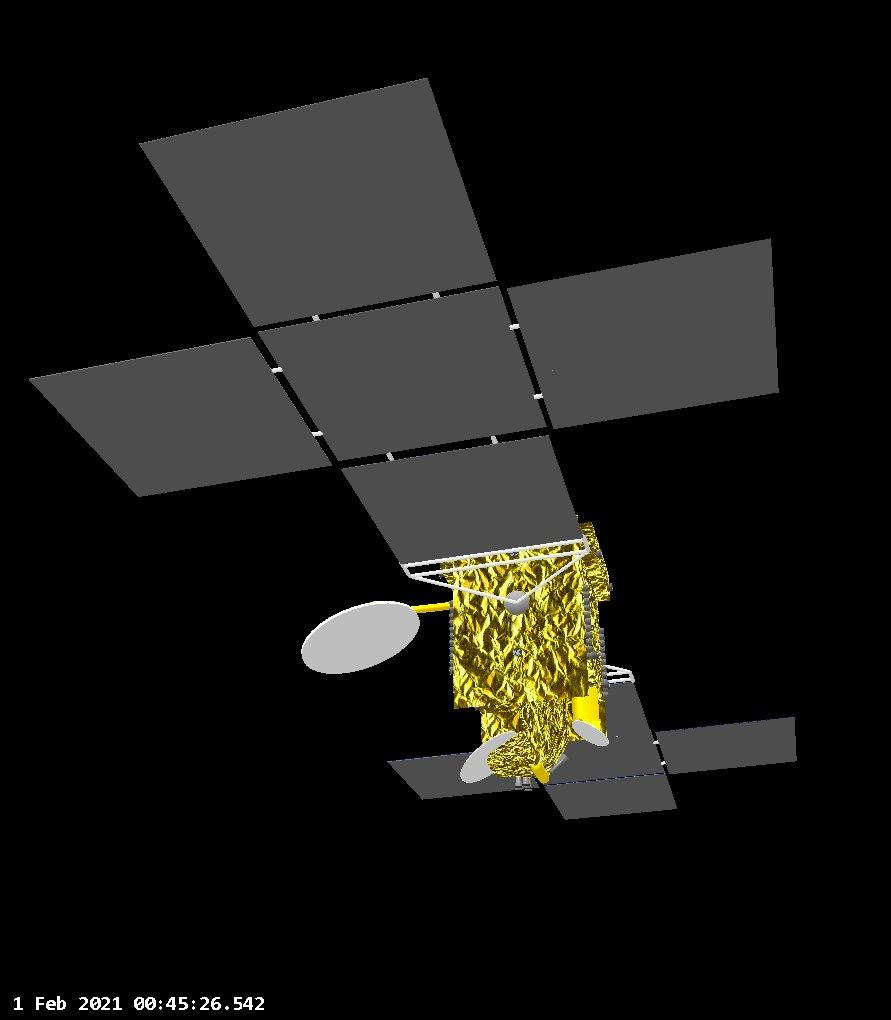antenna: (299, 597, 425, 678), (458, 727, 522, 781), (569, 717, 612, 755)
body: (443, 517, 619, 713)
solar: (22, 67, 786, 568), (381, 687, 805, 830)
